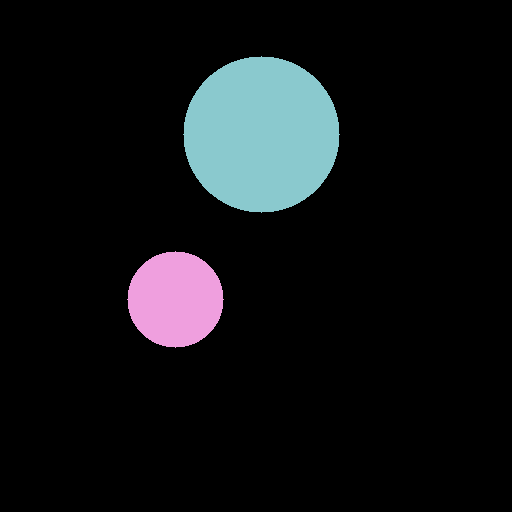circle: (183, 56, 339, 212), (127, 251, 223, 347)
